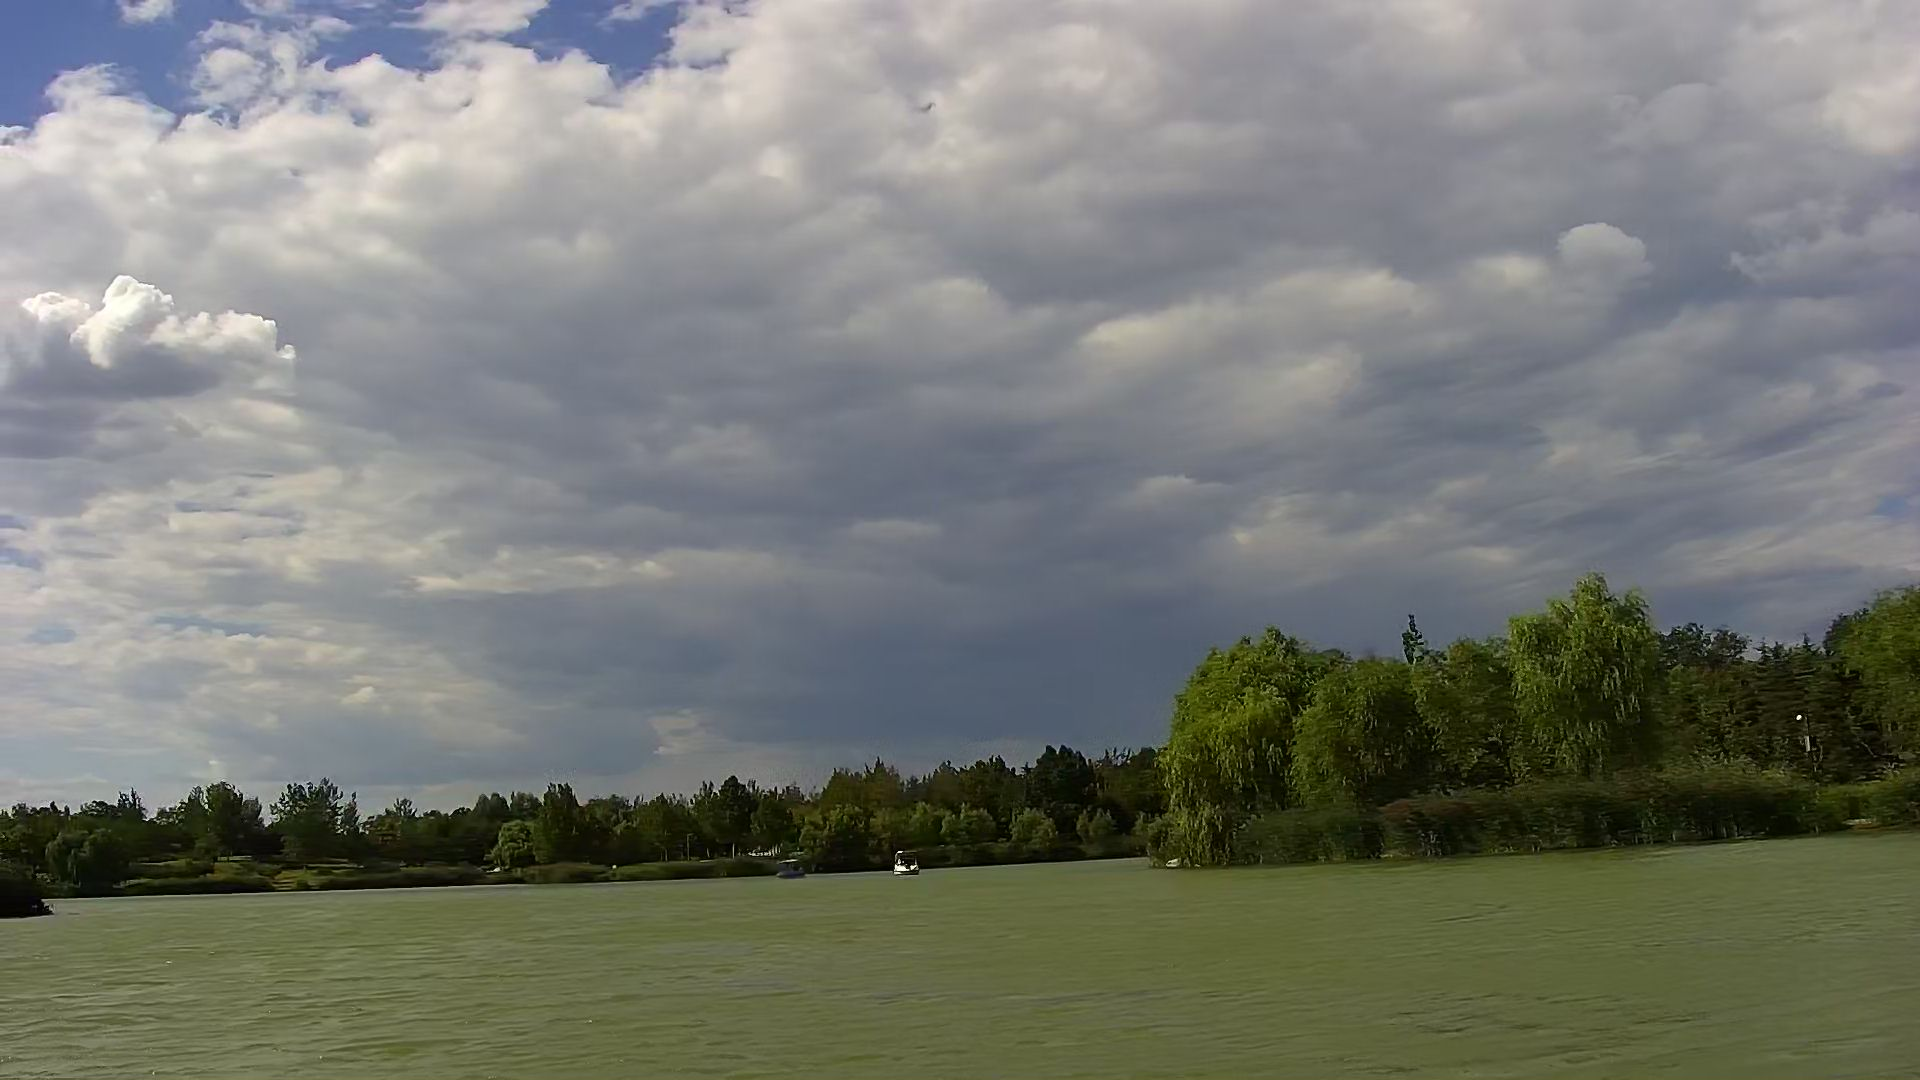boat: (774, 858, 811, 882), (891, 851, 924, 876)
